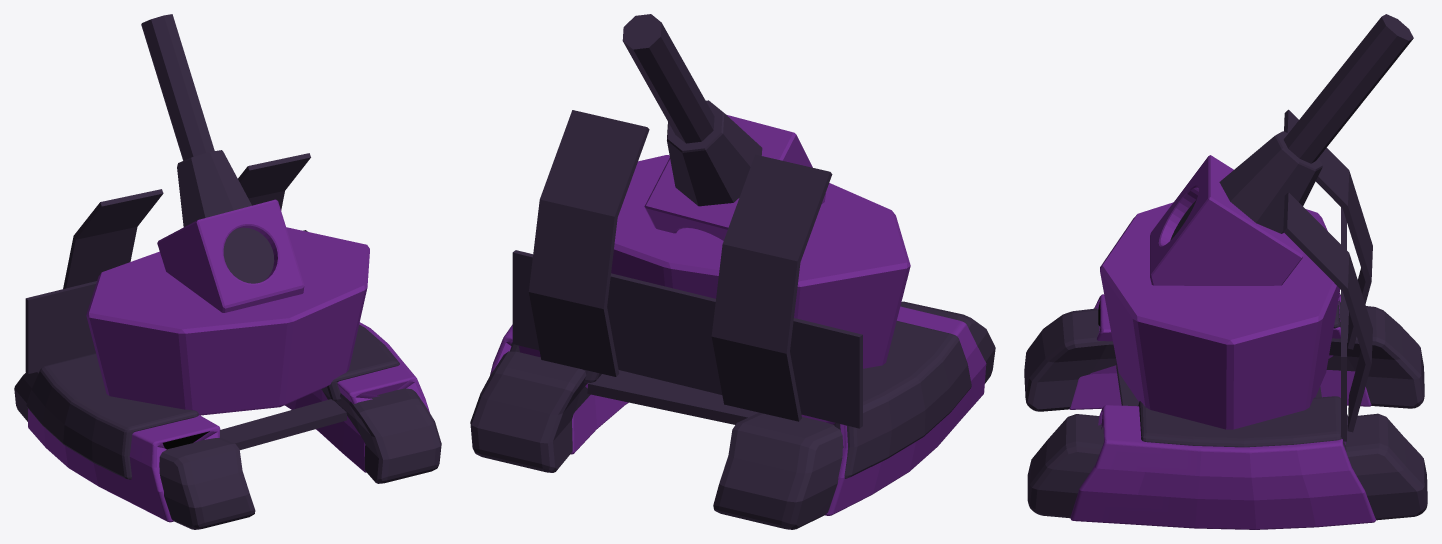
Rendered from 天火坦克.fbx.
The picture shows the model from 3 angles, left to right: view 1: azimuth 30°, elevation 25°; view 2: azimuth 150°, elevation 25°; view 3: azimuth 270°, elevation 25°; orthographic projection. The views are drawn at different scales.
Visible parts, largest first — view 1: Heavenly Fire_body_Baked, Heavenly Fire_Caterpillar track_Baked, Heavenly Fire_Crawler housing2_Baked, Heavenly Fire_Crawler housing1_Baked, Heavenly Fire_Joint_Baked, Heavenly Fire_baffle1_Baked, Heavenly Fire_baffle2_Baked, Heavenly Fire_Cannon barrel_Baked, Heavenly Fire-Joint3_Baked, Heavenly Fire_Base plate_Baked, Heavenly Fire_Joint2_Baked; view 2: Heavenly Fire_baffle1_Baked, Heavenly Fire_Caterpillar track_Baked, Heavenly Fire_body_Baked, Heavenly Fire_baffle2_Baked, Heavenly Fire_Crawler housing2_Baked, Heavenly Fire_Crawler housing1_Baked, Heavenly Fire_Cannon barrel_Baked, Heavenly Fire-Joint3_Baked, Heavenly Fire_Joint_Baked, Heavenly Fire_Base plate_Baked; view 3: Heavenly Fire_body_Baked, Heavenly Fire_Crawler housing1_Baked, Heavenly Fire_Caterpillar track_Baked, Heavenly Fire_Joint_Baked, Heavenly Fire_baffle1_Baked, Heavenly Fire_Cannon barrel_Baked, Heavenly Fire_Crawler housing2_Baked, Heavenly Fire-Joint3_Baked, Heavenly Fire_baffle2_Baked.
Boxes of the visible parts, x1,y1,x2,y2 form: Heavenly Fire_body_Baked: (86, 227, 369, 415); Heavenly Fire_Caterpillar track_Baked: (14, 371, 441, 529); Heavenly Fire_Crawler housing2_Baked: (26, 324, 399, 479); Heavenly Fire_Crawler housing1_Baked: (28, 322, 429, 522); Heavenly Fire_Joint_Baked: (157, 199, 304, 312); Heavenly Fire_baffle1_Baked: (63, 153, 310, 288); Heavenly Fire_baffle2_Baked: (25, 230, 307, 373); Heavenly Fire_Cannon barrel_Baked: (141, 14, 214, 160); Heavenly Fire-Joint3_Baked: (177, 150, 251, 226); Heavenly Fire_Base plate_Baked: (220, 399, 346, 449); Heavenly Fire_Joint2_Baked: (223, 227, 274, 283); Heavenly Fire_baffle1_Baked: (528, 110, 832, 421); Heavenly Fire_Caterpillar track_Baked: (470, 301, 995, 529); Heavenly Fire_body_Baked: (611, 155, 910, 368); Heavenly Fire_baffle2_Baked: (512, 250, 862, 428); Heavenly Fire_Crawler housing2_Baked: (510, 321, 971, 478); Heavenly Fire_Crawler housing1_Baked: (490, 306, 986, 515); Heavenly Fire_Cannon barrel_Baked: (622, 14, 714, 143); Heavenly Fire-Joint3_Baked: (667, 100, 762, 206); Heavenly Fire_Joint_Baked: (644, 114, 825, 240); Heavenly Fire_Base plate_Baked: (587, 370, 758, 424); Heavenly Fire_body_Baked: (1100, 202, 1340, 429); Heavenly Fire_Crawler housing1_Baked: (1069, 294, 1375, 529); Heavenly Fire_Caterpillar track_Baked: (1024, 304, 1427, 520); Heavenly Fire_Joint_Baked: (1150, 155, 1303, 285); Heavenly Fire_baffle1_Baked: (1283, 109, 1372, 432); Heavenly Fire_Cannon barrel_Baked: (1283, 14, 1413, 163); Heavenly Fire_Crawler housing2_Baked: (1138, 293, 1347, 450); Heavenly Fire-Joint3_Baked: (1219, 131, 1322, 233); Heavenly Fire_baffle2_Baked: (1341, 207, 1346, 441).
Bounding box in the file's own units: 354 × 403 × 342.
Materials: 11 (11 with a texture image).
